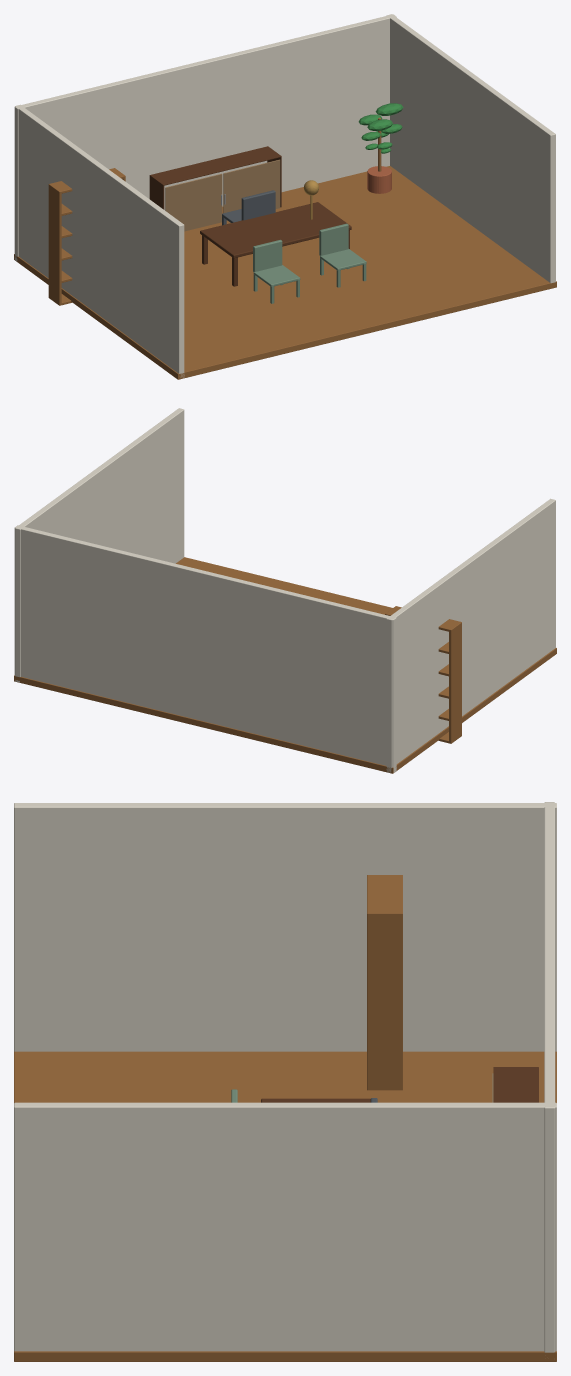
The picture shows the model from 3 angles, top to bottom: view 1: azimuth 30°, elevation 25°; view 2: azimuth 150°, elevation 25°; view 3: azimuth 270°, elevation 25°; orthographic projection. The views are drawn at different scales.
Visible parts, largest first — view 1: floor.structure, rear_wall.wall, right_wall.wall, left_wall.wall, executive_desk.top, storage.door_l, storage.door_r, storage.top, display_shelf.side_l, desk_chair.back, guest_chair_2.back, guest_chair_1.back (+3 smaller); view 2: rear_wall.wall, left_wall.wall, right_wall.wall, floor.structure, display_shelf.side_l; view 3: right_wall.wall, left_wall.wall, floor.structure, rear_wall.wall, display_shelf.side_r, storage.top, display_shelf.shelf_5.
Boxes of the visible parts, x1=… form: floor.structure: x1=14, y1=166, x2=556, y2=379; rear_wall.wall: x1=14, y1=14, x2=396, y2=261; right_wall.wall: x1=386, y1=14, x2=555, y2=283; left_wall.wall: x1=15, y1=104, x2=184, y2=378; executive_desk.top: x1=200, y1=202, x2=351, y2=258; storage.door_l: x1=165, y1=173, x2=222, y2=231; storage.door_r: x1=223, y1=159, x2=280, y2=220; storage.top: x1=150, y1=146, x2=281, y2=185; display_shelf.side_l: x1=48, y1=186, x2=61, y2=304; desk_chair.back: x1=241, y1=190, x2=275, y2=220; guest_chair_2.back: x1=319, y1=223, x2=348, y2=255; guest_chair_1.back: x1=253, y1=239, x2=282, y2=271; rear_wall.wall: x1=14, y1=525, x2=396, y2=772; left_wall.wall: x1=386, y1=498, x2=555, y2=772; right_wall.wall: x1=15, y1=408, x2=184, y2=682; floor.structure: x1=14, y1=557, x2=556, y2=773; display_shelf.side_l: x1=449, y1=624, x2=461, y2=742; right_wall.wall: x1=14, y1=1102, x2=556, y2=1351; left_wall.wall: x1=14, y1=803, x2=556, y2=1051; floor.structure: x1=14, y1=1051, x2=556, y2=1361; rear_wall.wall: x1=544, y1=802, x2=555, y2=1352; display_shelf.side_r: x1=367, y1=917, x2=402, y2=1090; storage.top: x1=493, y1=1067, x2=538, y2=1102; display_shelf.shelf_5: x1=367, y1=875, x2=402, y2=916.
Bounding box in the file's own units: 8.25 × 3.12 × 6.
